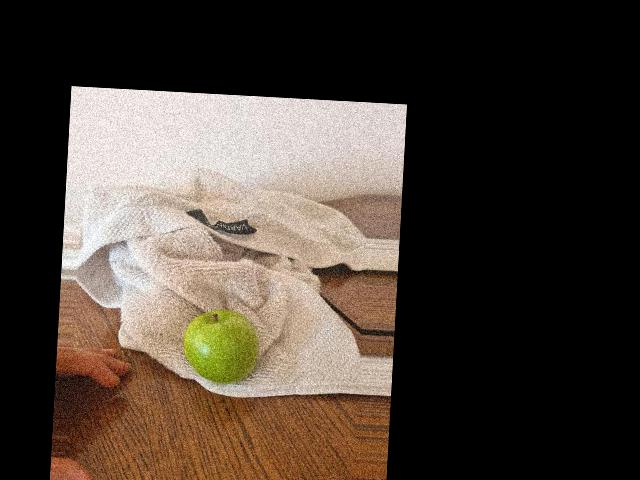apple: (181, 303, 258, 389)
